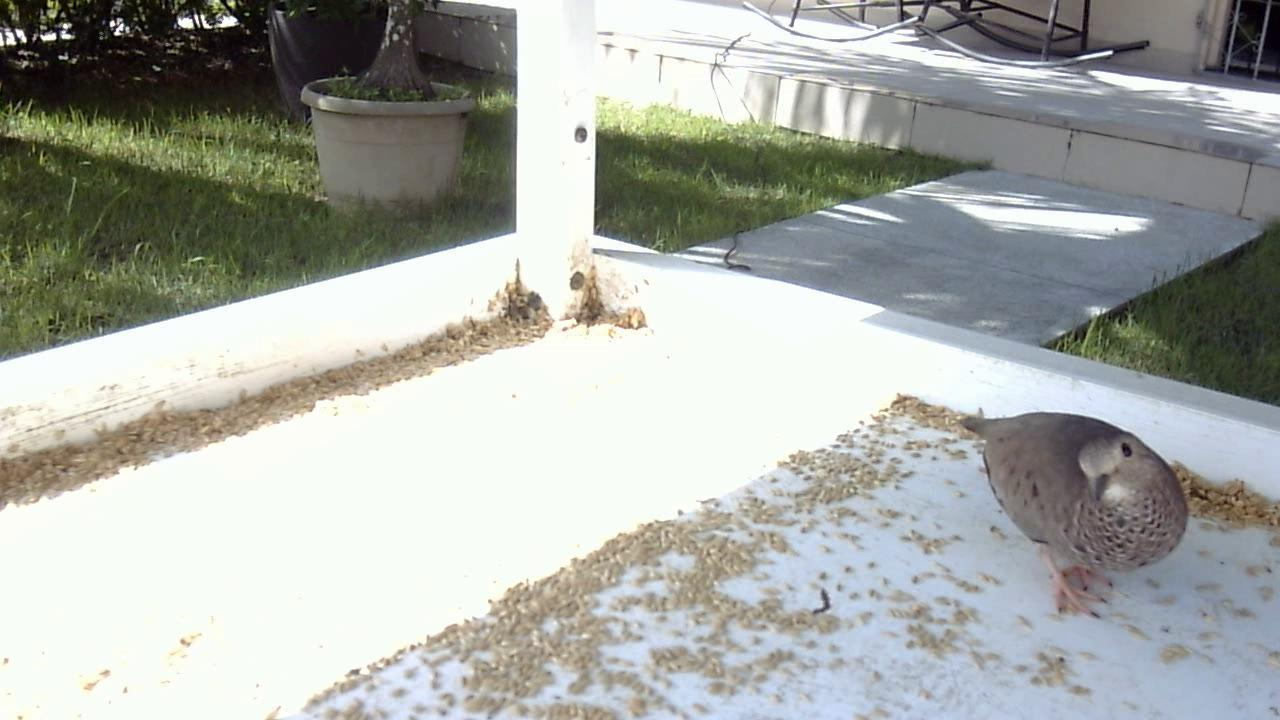rolinha: (937, 392, 1198, 627)
